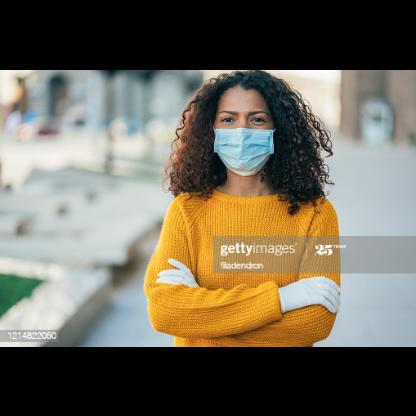Surgical Mask: (213, 87, 281, 175)
